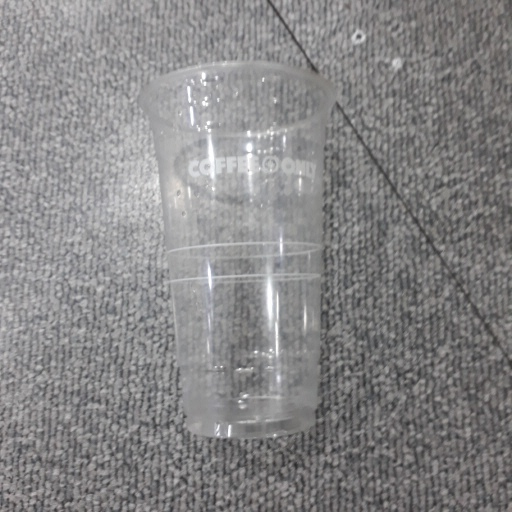Plastic_2: (140, 61, 339, 441)
